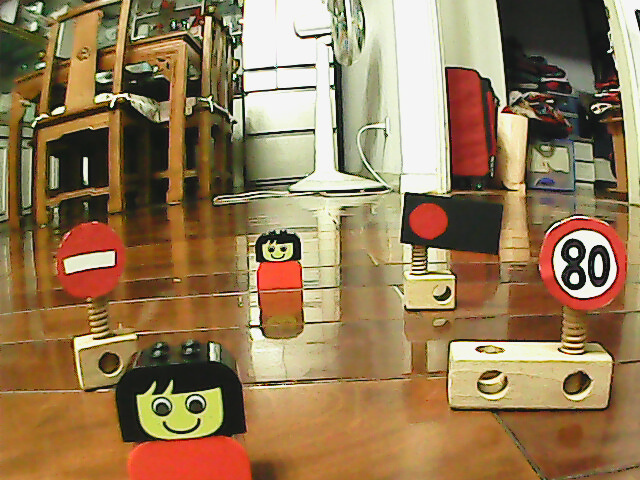Person: (111, 338, 254, 480), (251, 227, 306, 291)
Red Traffic Light: (403, 194, 451, 245)
Speed Limit 80: (536, 213, 629, 312)
Stop Sign: (53, 219, 129, 301)
